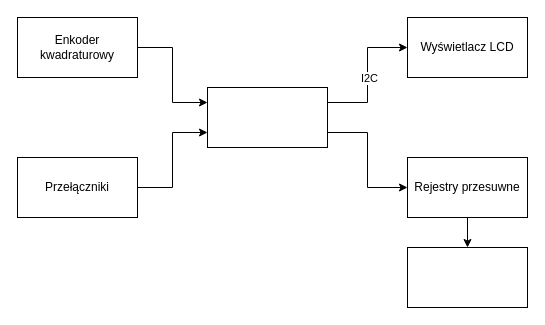
This 545x325 diagram has some shape labels left out. Each missing label, with the centre of its shape:
Diody LED: (467,277)
Mikrokontroler: (267,117)
